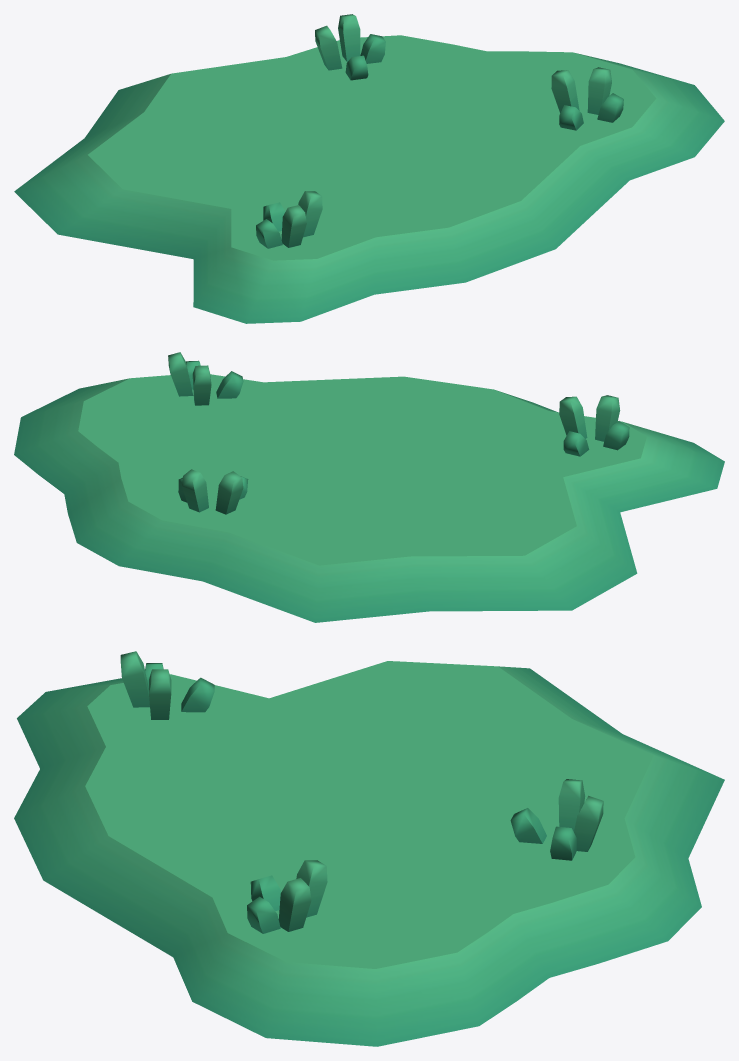
Rendered from patch-grass-foliage.glb.
The picture shows the model from 3 angles, top to bottom: view 1: azimuth 30°, elevation 25°; view 2: azimuth 150°, elevation 25°; view 3: azimuth 270°, elevation 25°; orthographic projection. The views are drawn at different scales.
Visible parts, largest first — view 1: patch-grass-foliage; view 2: patch-grass-foliage; view 3: patch-grass-foliage.
Part boxes in pixels (x1,y1,x2,y2): patch-grass-foliage: (14,14,724,323); patch-grass-foliage: (14,352,724,622); patch-grass-foliage: (14,651,724,1046).
Bounding box in the file's own units: 5.27 × 0.5639 × 4.11.
Materials: 1 (1 with a texture image).
